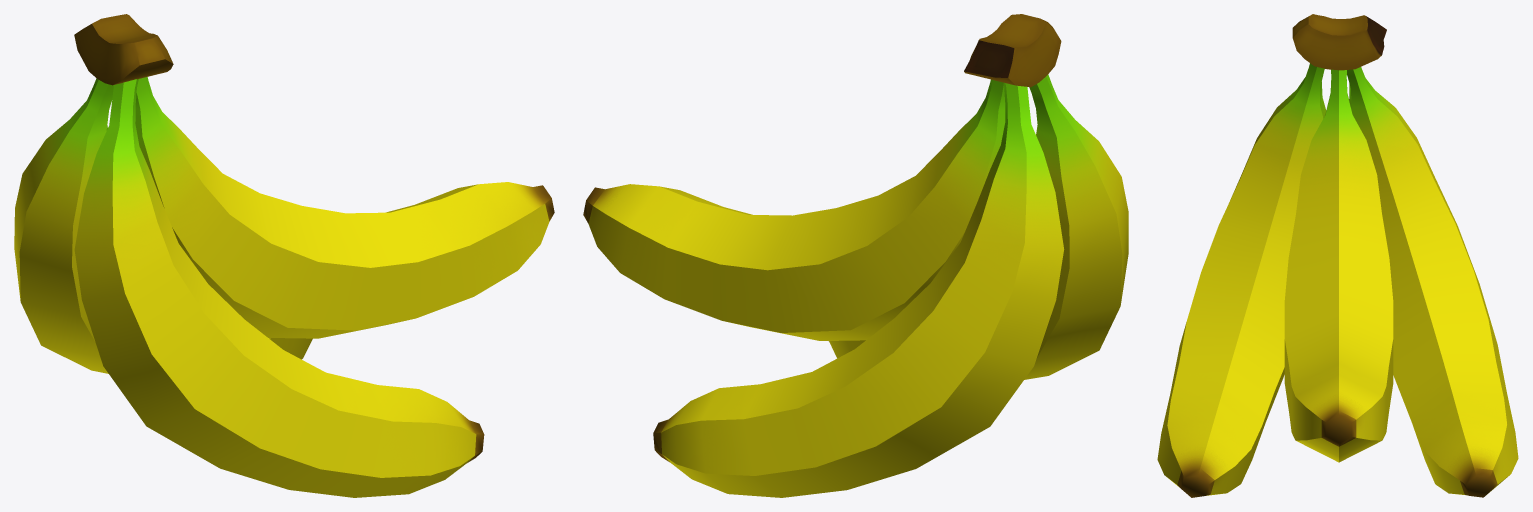
The model's file is banana.fbx.
The picture shows the model from 3 angles, left to right: view 1: azimuth 30°, elevation 25°; view 2: azimuth 150°, elevation 25°; view 3: azimuth 270°, elevation 25°; orthographic projection. The views are drawn at different scales.
Parts seen in each view (by area): view 1: banana02, banana01, banana03, stem; view 2: banana03, banana01, banana02, stem; view 3: banana02, banana03, banana01, stem.
Part boxes in pixels (<box>): banana02: <box>74,79,484,497</box>; banana01: <box>135,77,554,338</box>; banana03: <box>14,78,312,373</box>; stem: <box>74,14,173,85</box>; banana03: <box>653,82,1064,497</box>; banana01: <box>583,79,1005,340</box>; banana02: <box>829,74,1128,379</box>; stem: <box>964,14,1061,87</box>; banana02: <box>1157,63,1326,497</box>; banana03: <box>1347,67,1518,497</box>; banana01: <box>1284,69,1393,462</box>; stem: <box>1292,14,1386,70</box>.
Bounding box in the file's own units: 19.17 × 16.59 × 14.06.
